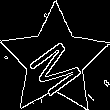M_NE: (22, 27, 87, 94)
